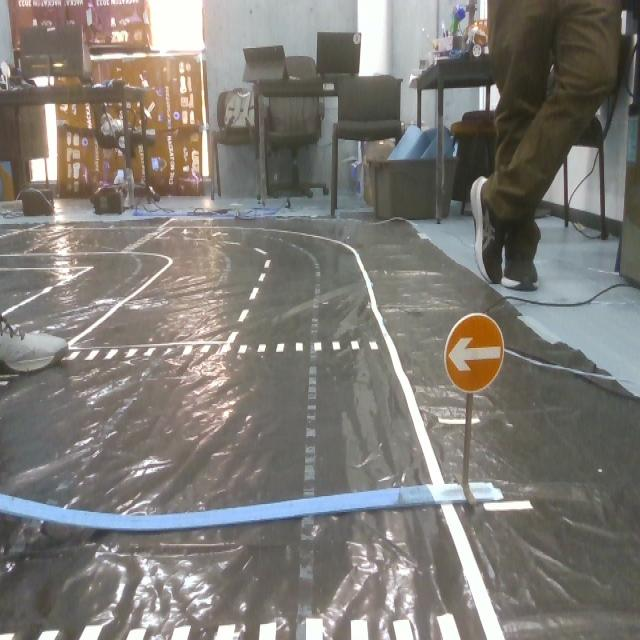forward: (440, 309, 510, 396)
